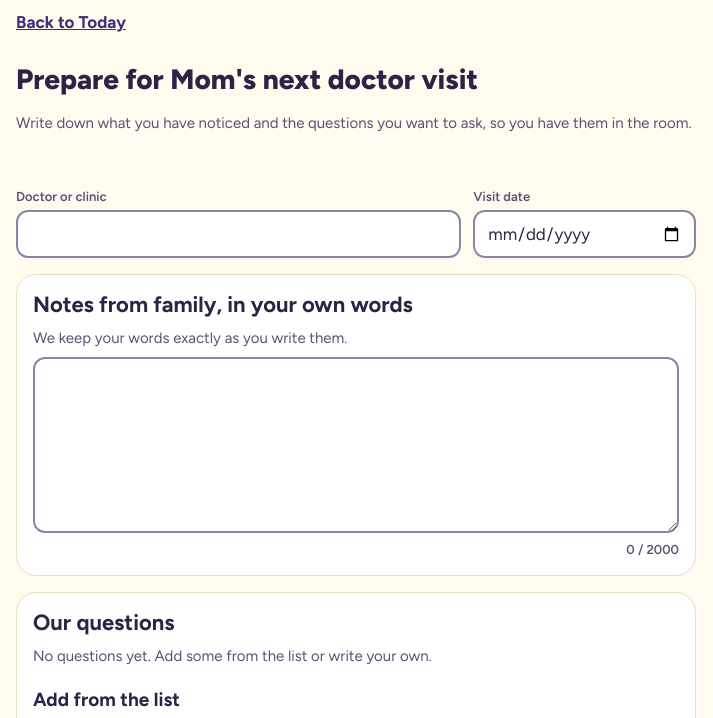
Test case: visit sheet page › a failed save keeps the words and offers a retry that works
The width and height of the screenshot is (713, 718).
Expected: the heading "Prepare for Mom's next doctor visit" is shown, [16,62,478,96]
Type "Dr. Lee" into the field labelled "Doctor or clinic" at (239, 234), box [16,210,461,258]
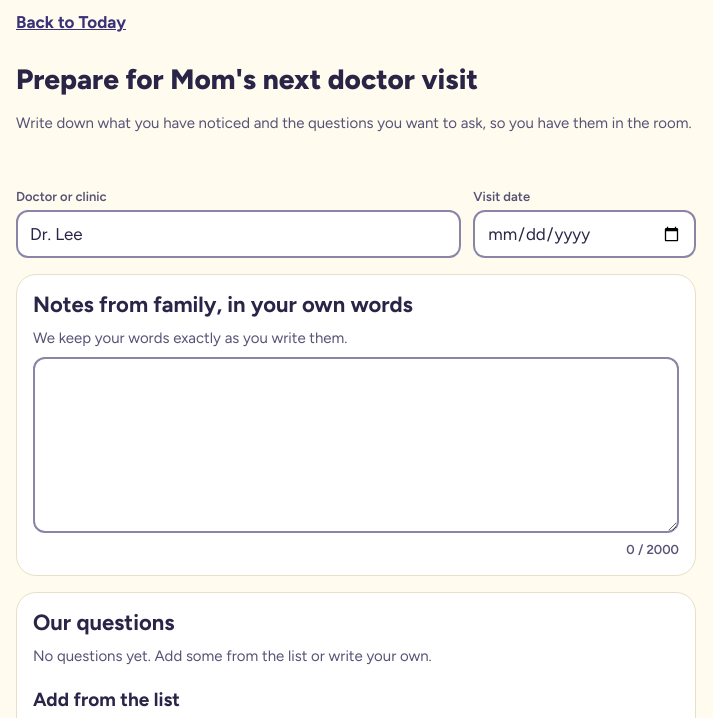
Leave the field labelled "Doctor or clinic", box [16,210,461,258]
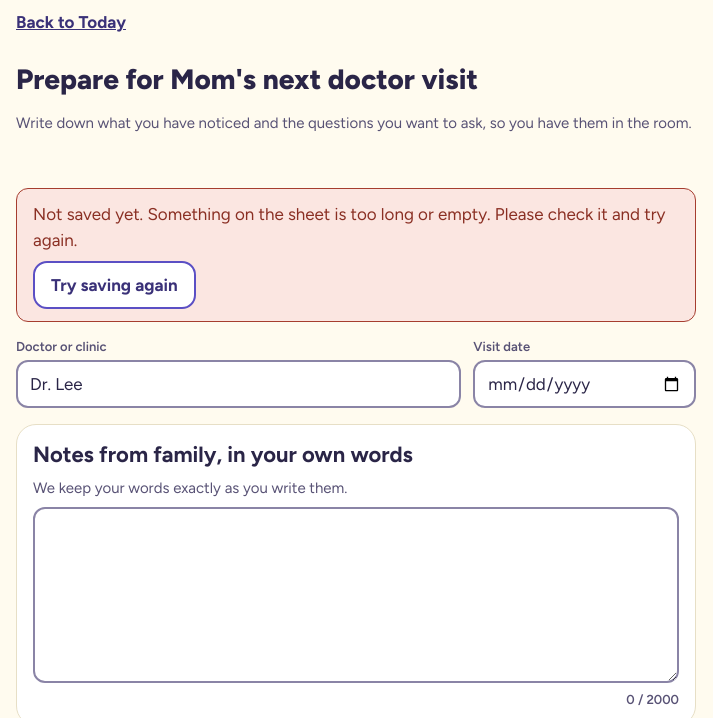
Expected: the message that starts with "Not saved yet." does not show "Dr. Lee", [16,188,696,322]
Expected: the message that starts with "Not saved yet." is shown, [33,204,143,224]
Click the button "Try saving again" at (114, 285), box [33,261,196,309]
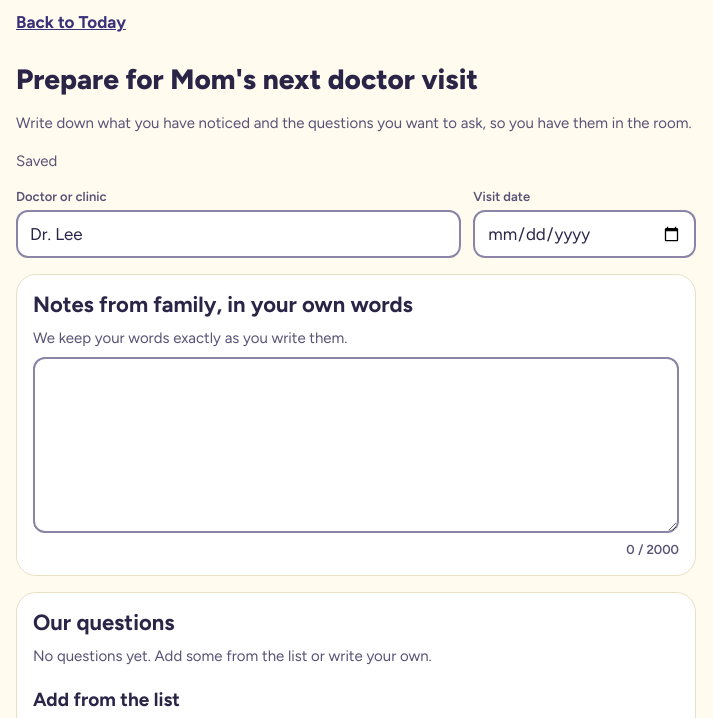
Expected: the text "Saved" is shown, [16,152,57,170]
